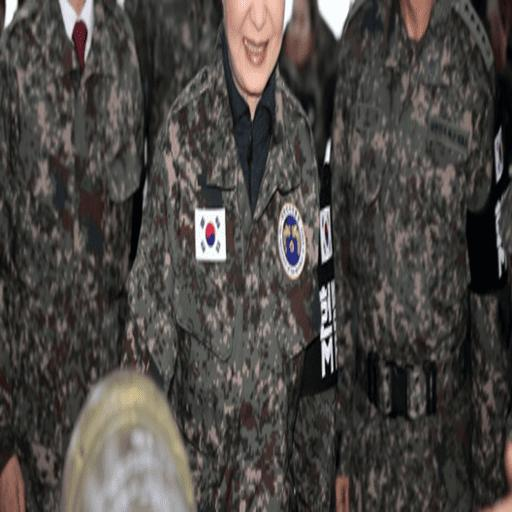korea army: (124, 4, 331, 507), (326, 3, 506, 507), (0, 3, 148, 507)
